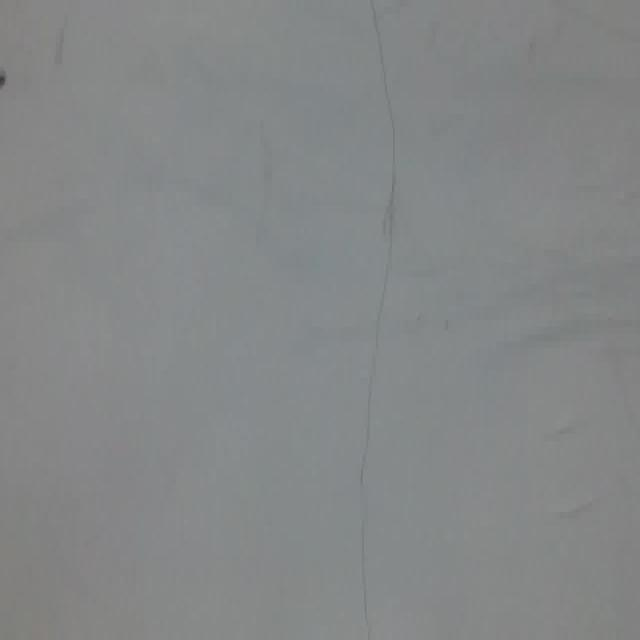Crack: (278, 0, 487, 640)
